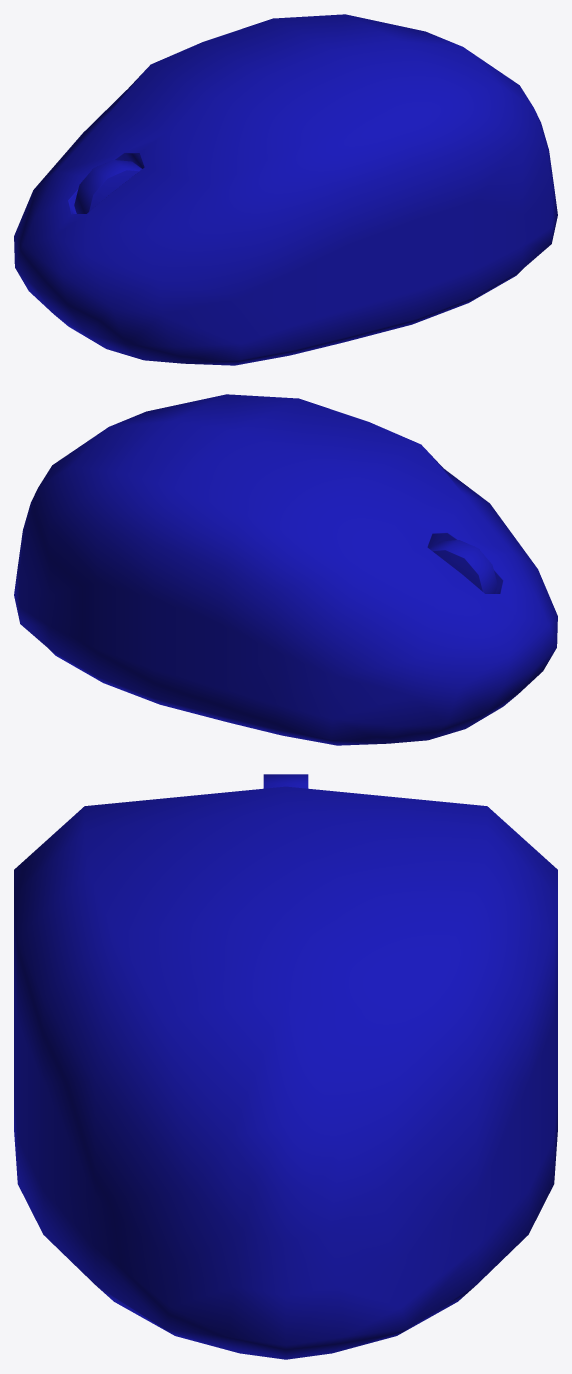
File: souris_low.FBX
The picture shows the model from 3 angles, top to bottom: view 1: azimuth 30°, elevation 25°; view 2: azimuth 150°, elevation 25°; view 3: azimuth 270°, elevation 25°; orthographic projection. The views are drawn at different scales.
Visible parts, largest first — view 1: souris; view 2: souris; view 3: souris.
Part boxes in pixels (bbox=[...]): souris: bbox=[14, 14, 557, 365]; souris: bbox=[14, 394, 557, 745]; souris: bbox=[14, 774, 557, 1359].
Size of the model in its own units: 4.55 by 1.84 by 2.6.
